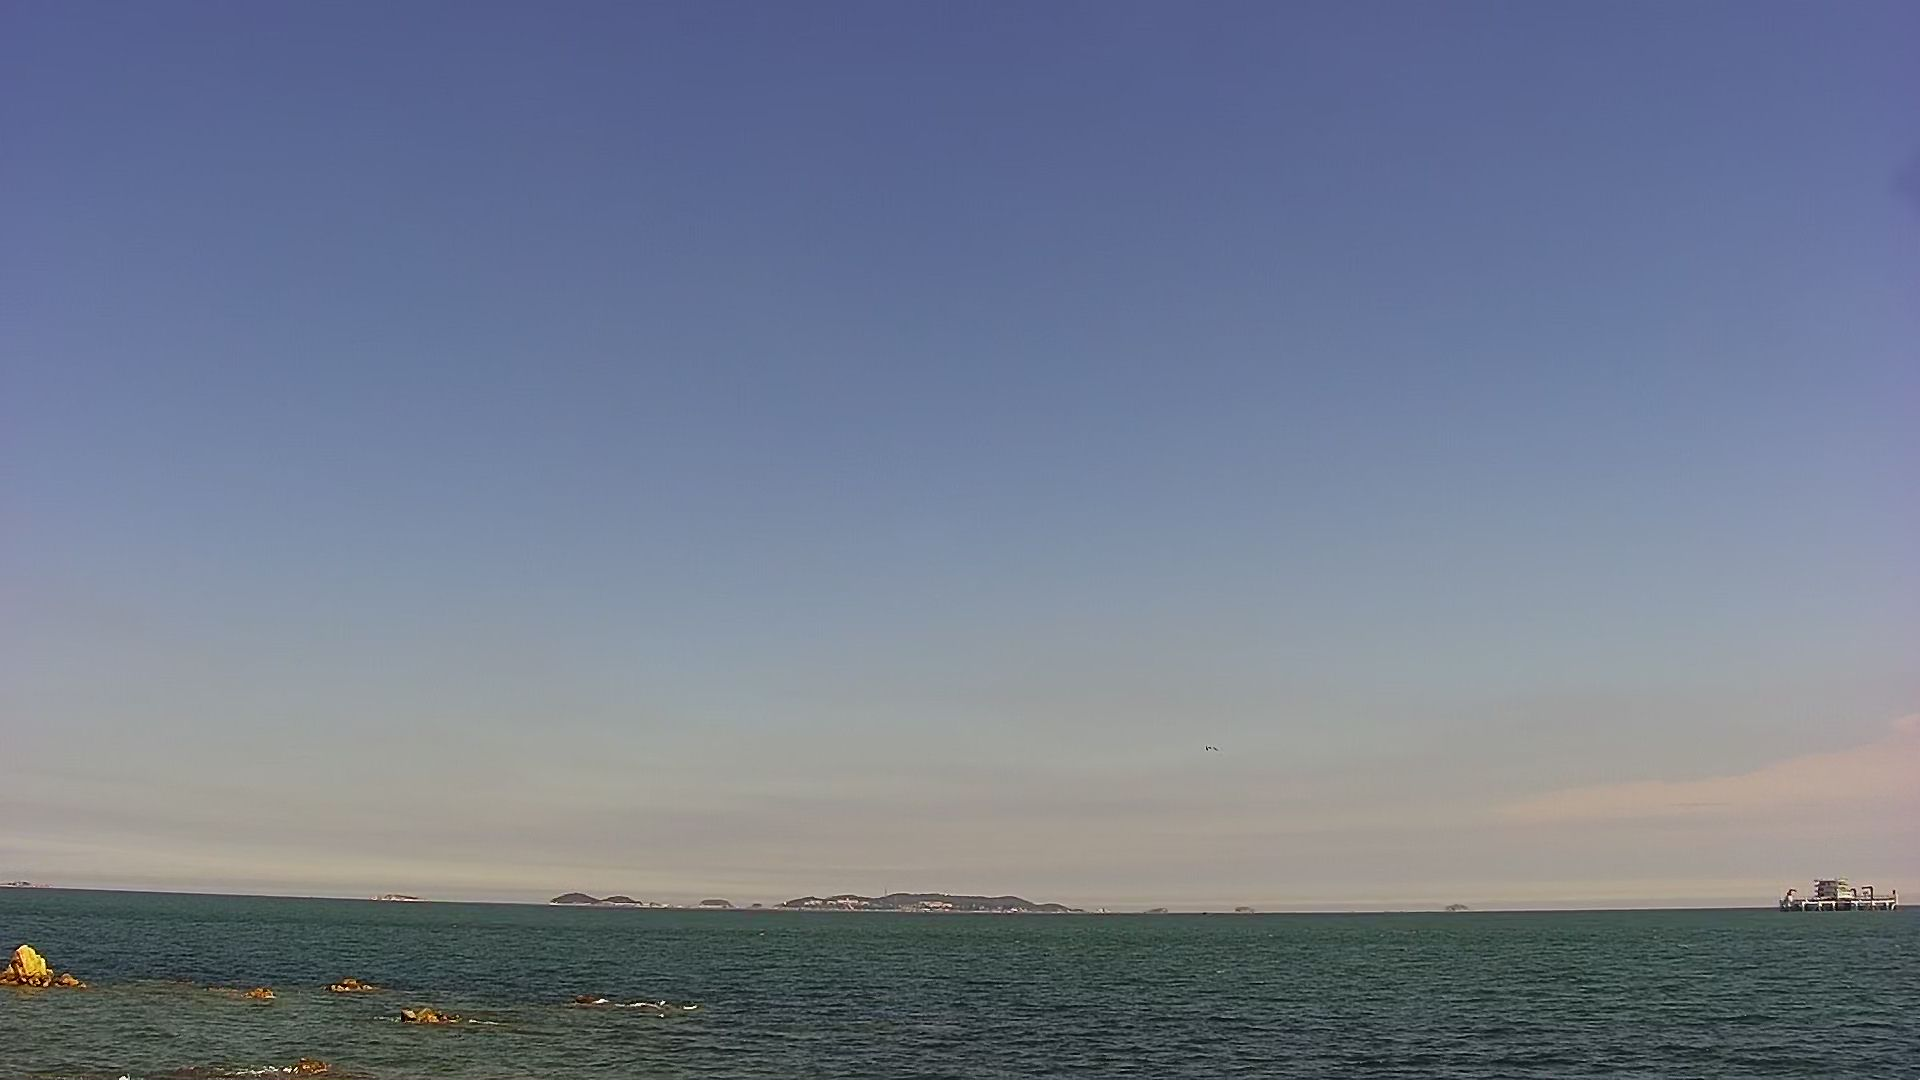platform: (1770, 876, 1911, 913)
rock: (775, 884, 1112, 924), (1, 942, 92, 994), (382, 994, 495, 1033), (225, 971, 295, 1010), (327, 967, 386, 1000), (564, 981, 630, 1010), (603, 887, 676, 909), (363, 884, 426, 905), (553, 884, 615, 903), (692, 891, 748, 913), (1230, 894, 1271, 920), (1135, 894, 1170, 919), (1437, 899, 1480, 913)
